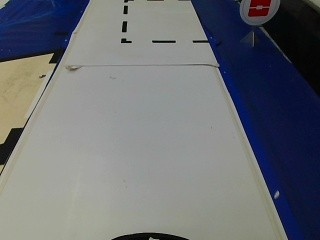company: (232, 0, 282, 24)
